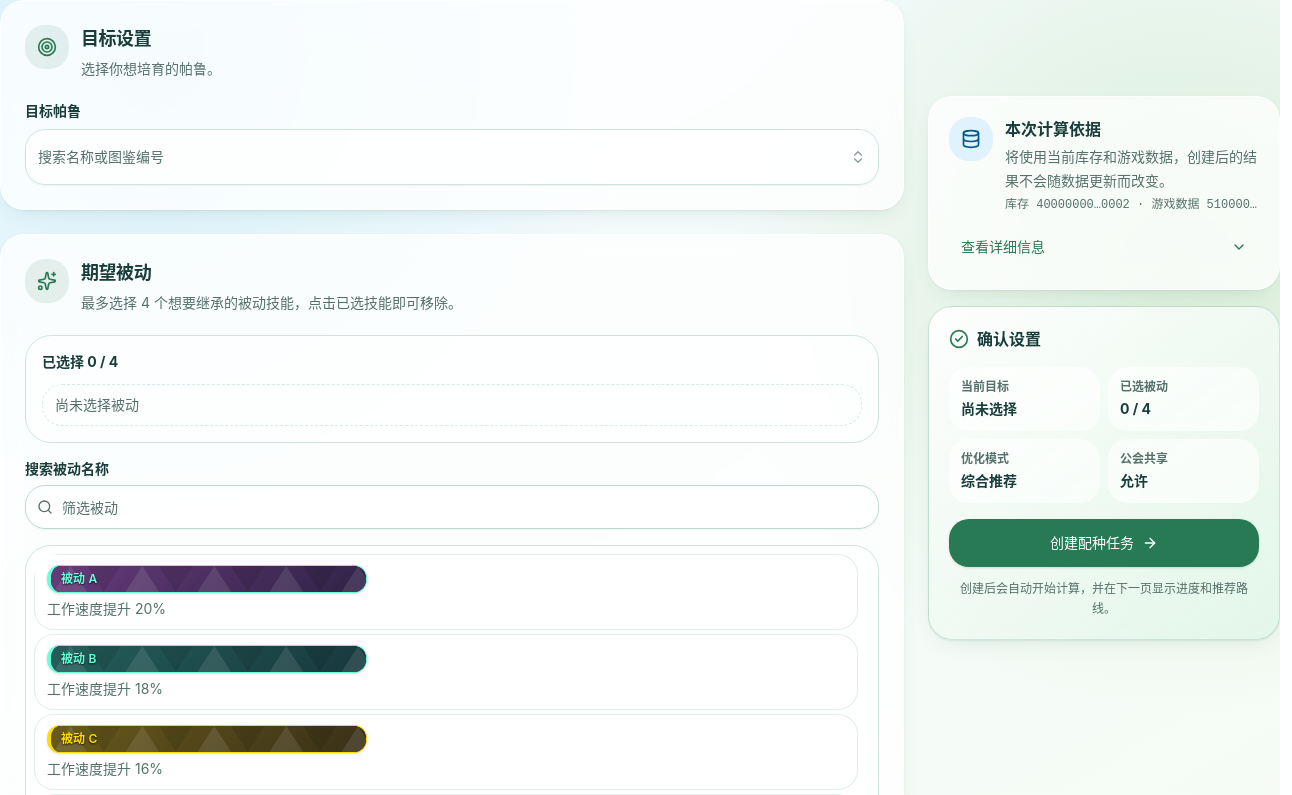
Test case: Phase 6 breeder form › keeps selected passives in a fluid 2x2 grid and removes them individually
Click the button with aria-label "选择被动 A" at (207, 579), box [34,554,858,630]
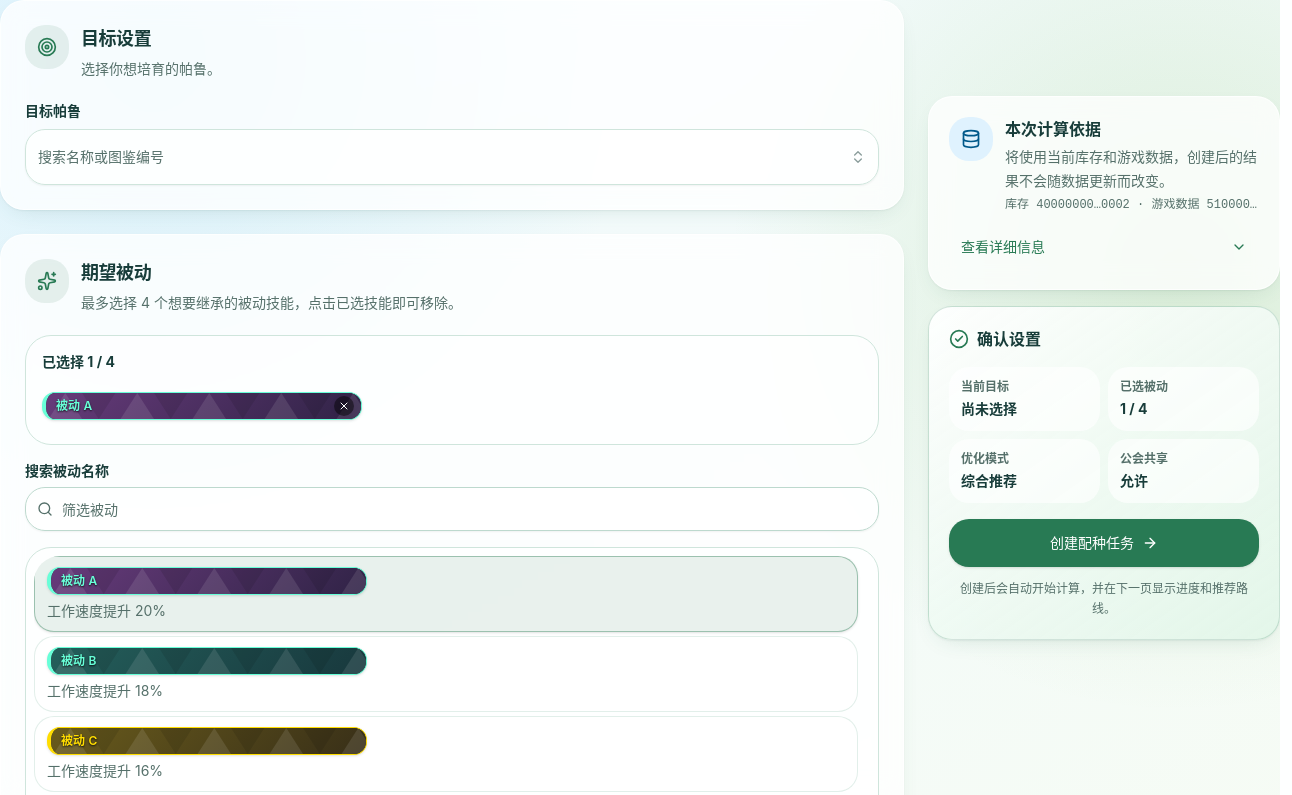
Click the button with aria-label "选择被动 B" at (207, 661), box [34,636,858,712]
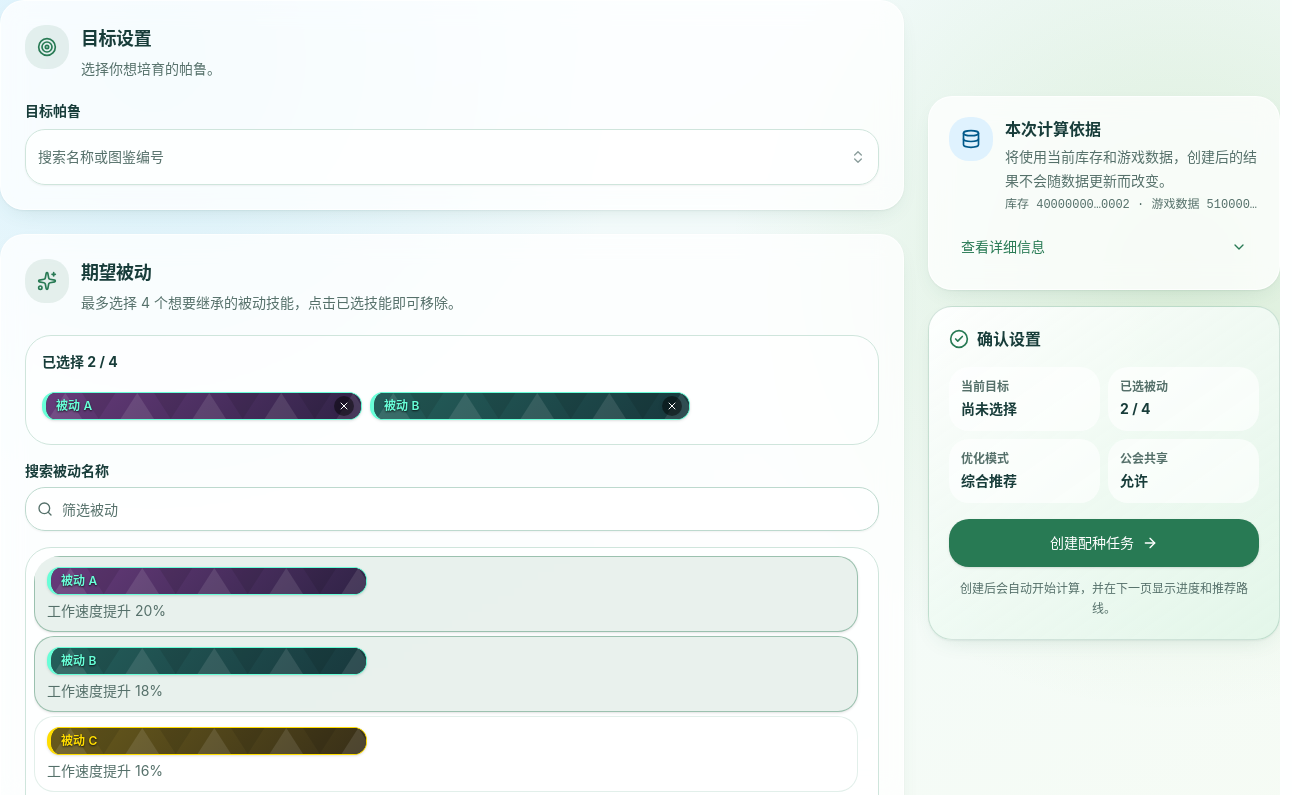
Type "被动 E" into the search field labelled "搜索被动" at (452, 509), box [25,487,879,531]
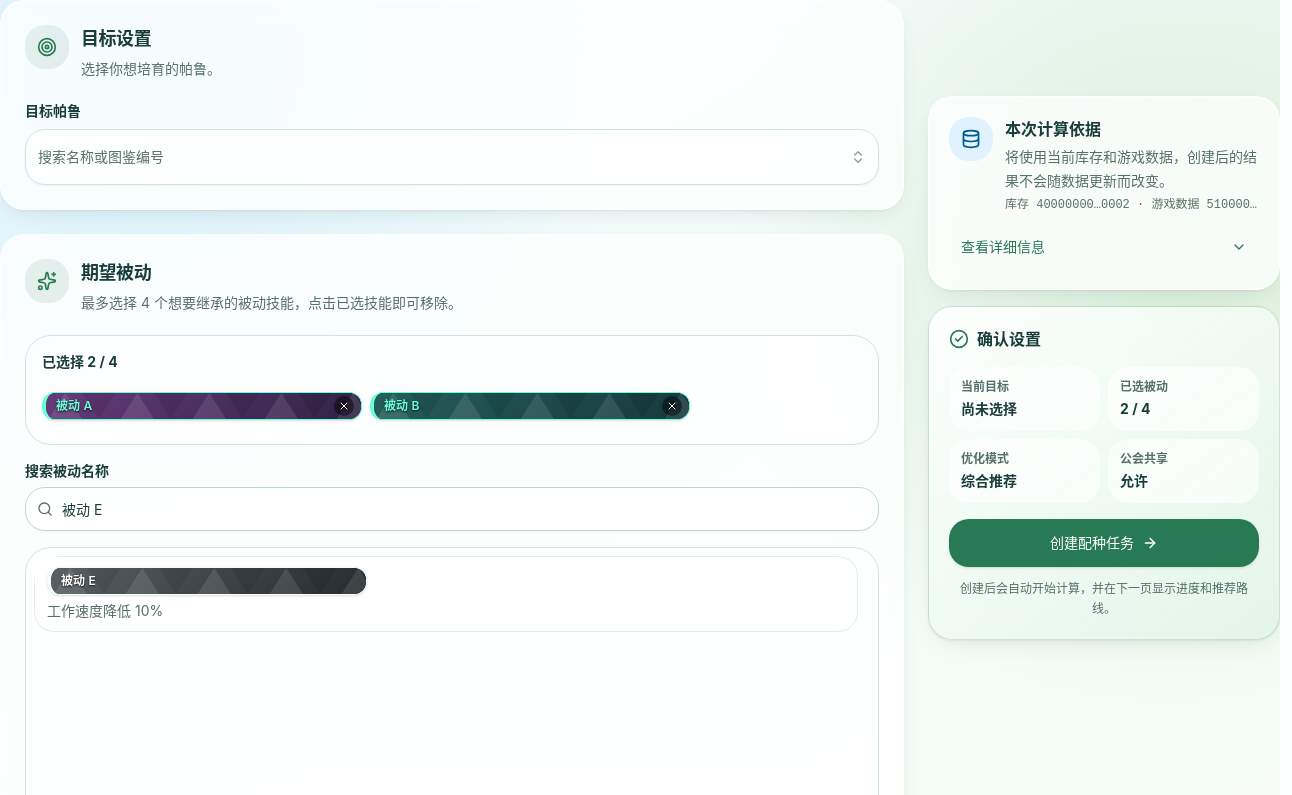
Now the element named "已选择的被动" shows "被动 A"
Click the button with aria-label "移除被动 A" at (202, 406), box [42,384,362,428]
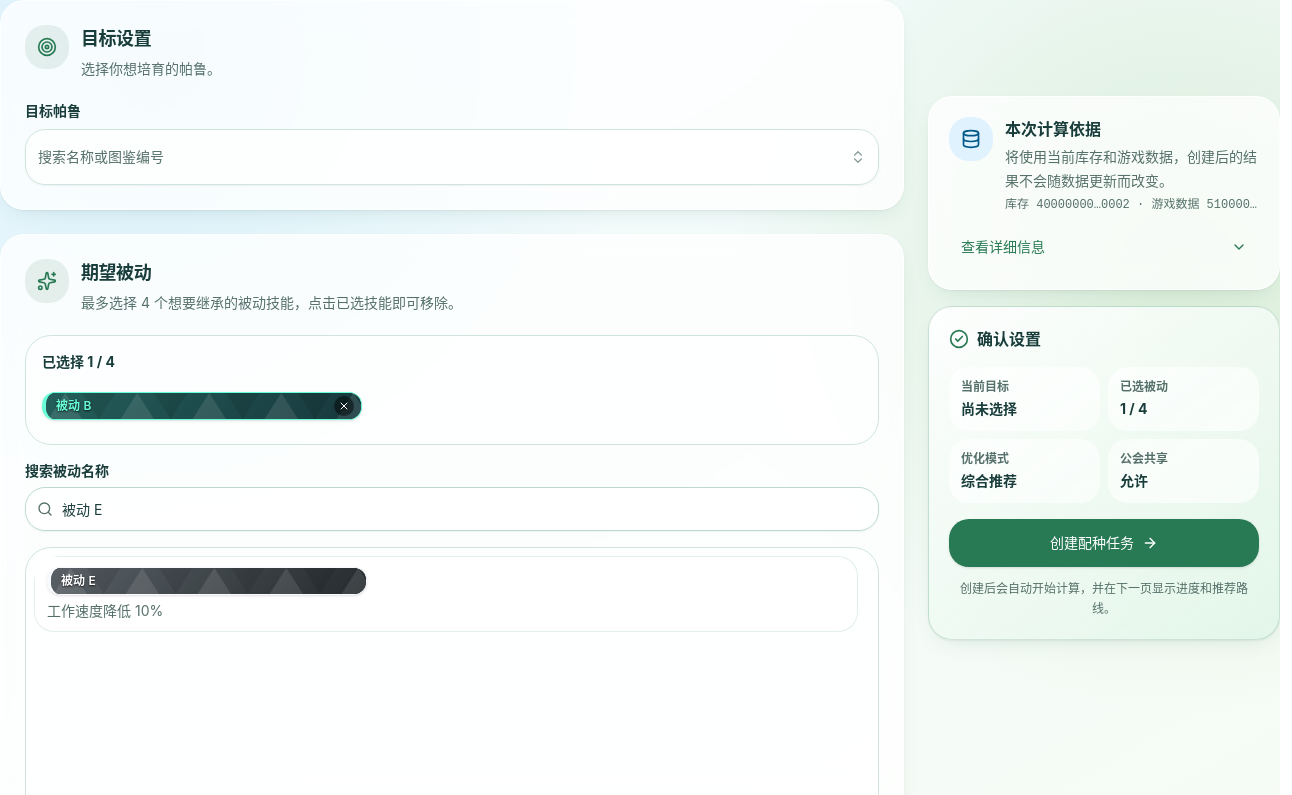
Now the element named "已选择的被动" shows "被动 B", box [42,384,362,428]
Now the button "已选择的被动" no longer shows "被动 A"
